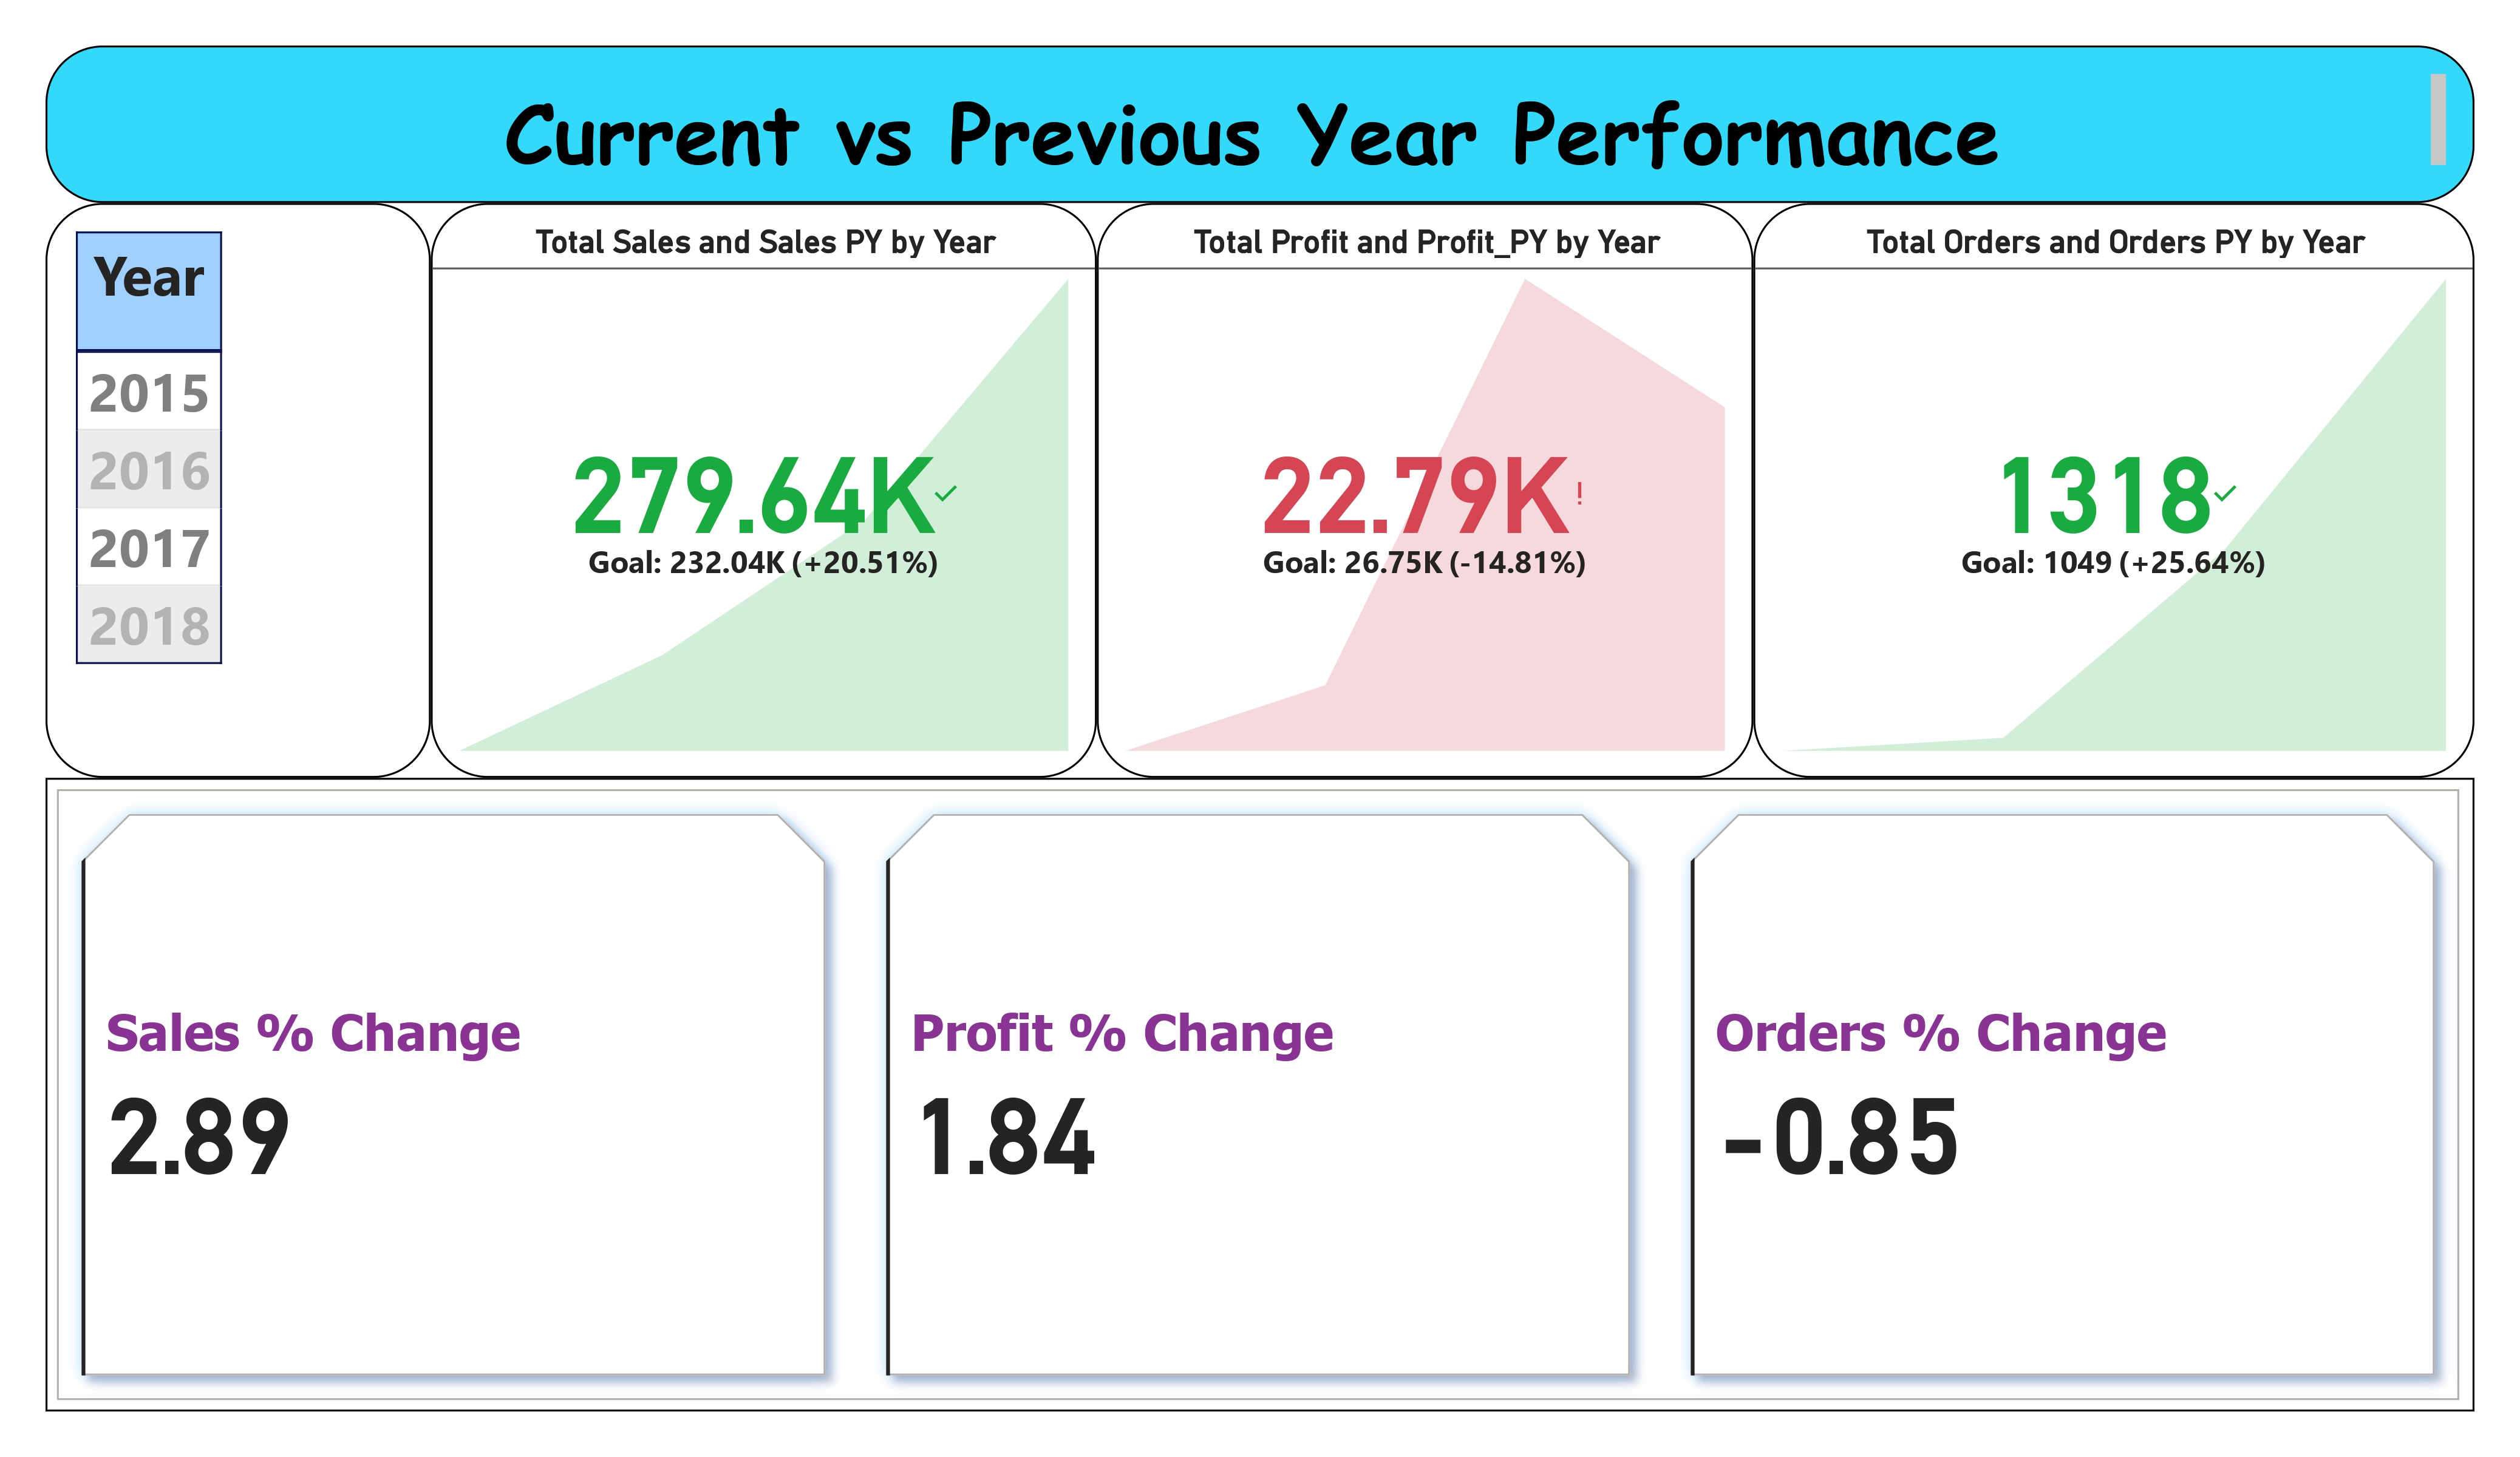

This screenshot's page, from the dashboard's own definition file:
{"tool":"powerbi","page":{"name":"Current vs Previous Year Performance","canvas":[1280,720],"ordinal":0},"visuals":[{"type":"kpi","fields":{"Indicator":["Append1.Total Sales"],"TrendLine":["Append1.Year"],"Goal":["Append1.Sales PY"]},"box":[202.9,82.9,351.4,302.9],"z":0},{"type":"kpi","fields":{"Indicator":["Append1.Total Profit"],"TrendLine":["Append1.Year"],"Goal":["Append1.Profit_PY"]},"box":[554.3,82.9,345.7,302.9],"z":1000},{"type":"kpi","fields":{"TrendLine":["Append1.Year"],"Goal":["Append1.Orders PY"],"Indicator":["Append1.Total Orders"]},"box":[900,82.9,380,302.9],"z":2000},{"type":"cardVisual","fields":{"Data":["Append1.Sales % Change","Append1.Profit % Change","Append1.Orders % Change"]},"box":[0,385.7,1280,334.3],"z":3000},{"type":"actionButton","box":[0,0,100,40],"z":4000},{"type":"tableEx","fields":{"Values":["Date.Year"]},"box":[0,82.9,202.9,302.9],"z":5000},{"type":"textbox","box":[0,0,1280,82.5],"z":6000}]}

Visuals, with their boxes on the page's 1280x720 design canvas (x1, y1, x2, y2). These are canvas units, not pixel positions in the 2520x1457 screenshot, which may show the page scaled, cropped or inside an application window:
kpi - Append1.Total Sales x Append1.Year: [203, 83, 554, 386]
kpi - Append1.Total Profit x Append1.Year: [554, 83, 900, 386]
kpi - Append1.Year x Append1.Orders PY: [900, 83, 1280, 386]
cardVisual - Append1.Sales % Change x Append1.Profit % Change: [0, 386, 1280, 720]
actionButton: [0, 0, 100, 40]
tableEx - Date.Year: [0, 83, 203, 386]
textbox: [0, 0, 1280, 82]
